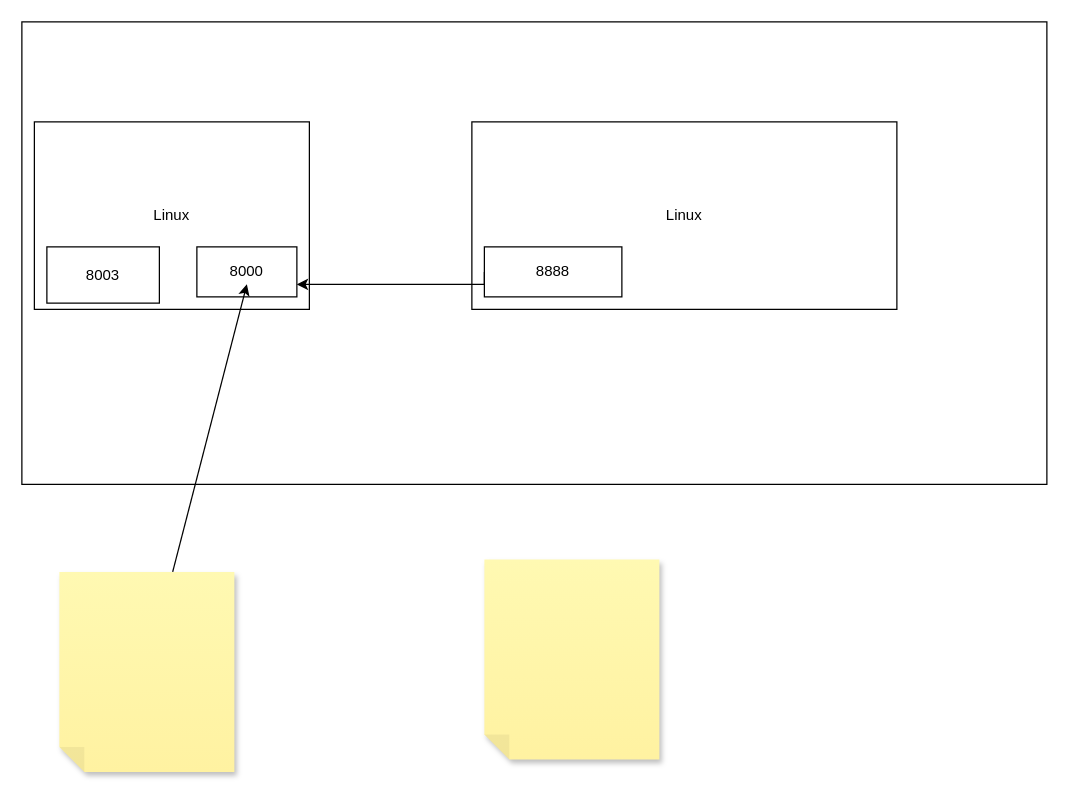
This 1069x803 diagram has some shape labels left out. Each missing label, with the centre of its shape:
cert key (private): pixel 572 661
host port = 8000 ssl-keyfile = ssl certfile= ssl ca crtfile =: pixel 147 673
